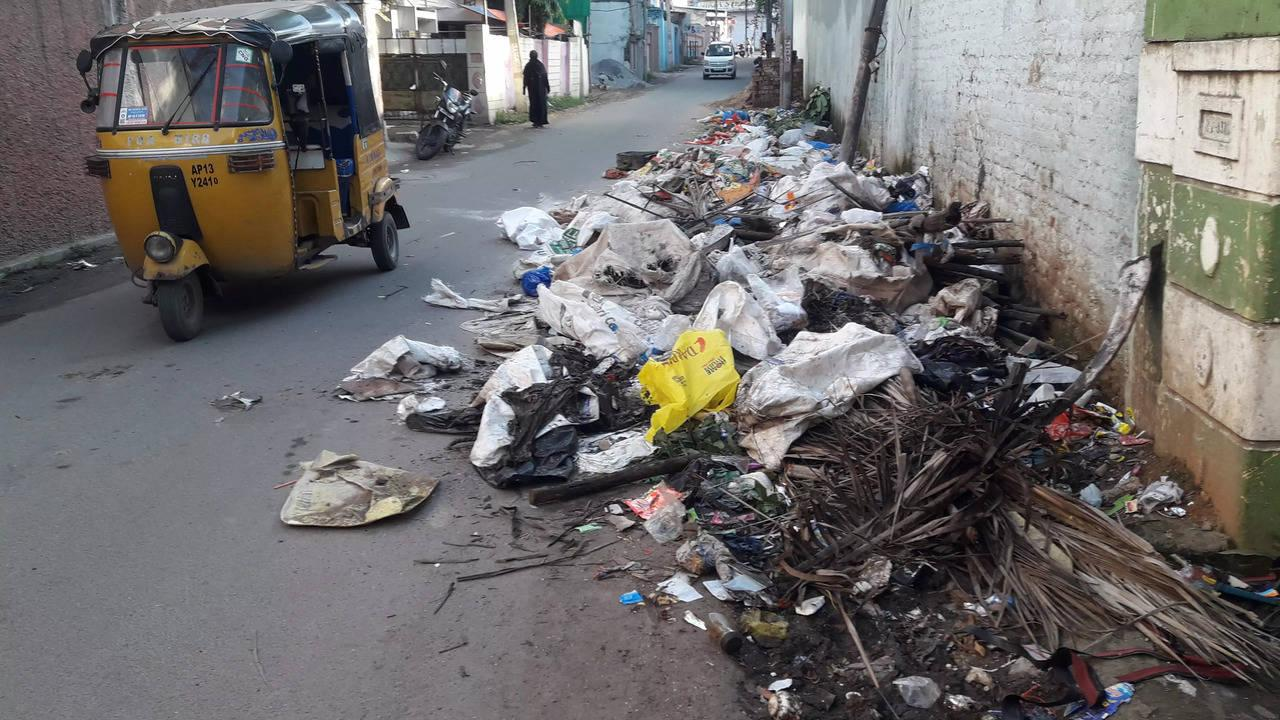road: (0, 70, 740, 718)
trash: (780, 398, 1280, 678), (735, 322, 922, 420), (555, 220, 708, 302), (770, 235, 932, 310), (640, 330, 740, 439), (538, 280, 650, 362), (692, 280, 782, 360), (802, 280, 898, 334), (682, 148, 755, 218), (475, 345, 552, 404), (578, 430, 655, 475), (470, 392, 515, 468), (675, 532, 735, 575), (928, 278, 982, 321), (930, 265, 1001, 294), (575, 385, 600, 425), (735, 592, 778, 609), (778, 128, 805, 150), (805, 148, 825, 169), (768, 161, 790, 172)
